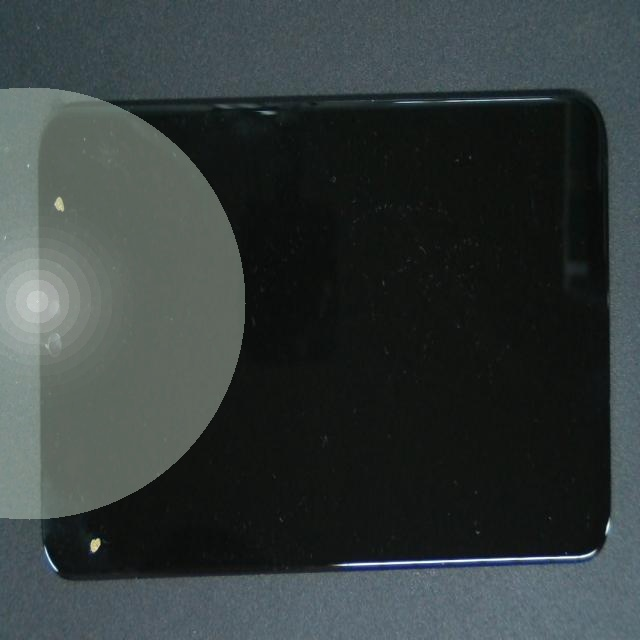stain: (59, 215, 137, 640), (47, 71, 87, 269)
